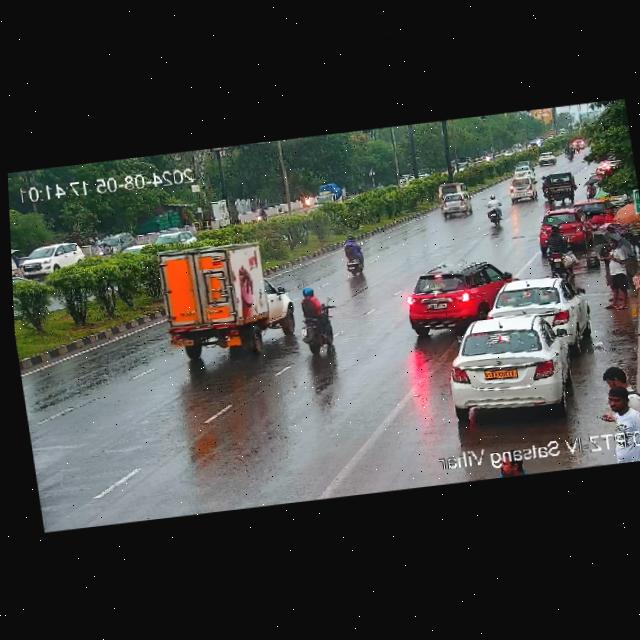car: (436, 305, 584, 418), (394, 258, 514, 332), (482, 274, 587, 337), (14, 239, 87, 278), (535, 209, 589, 244), (571, 196, 617, 231), (536, 171, 577, 204), (505, 175, 539, 206), (435, 195, 475, 221), (103, 230, 134, 255), (435, 181, 469, 203), (504, 159, 533, 177), (535, 149, 560, 167)
motorcycle: (291, 284, 341, 363), (539, 222, 581, 274), (333, 233, 376, 276), (481, 196, 506, 227), (562, 141, 575, 162), (253, 207, 268, 225), (574, 139, 582, 152)
person: (600, 380, 640, 463), (594, 233, 636, 312), (600, 358, 639, 432)
truck: (151, 234, 297, 362), (311, 182, 343, 208)
